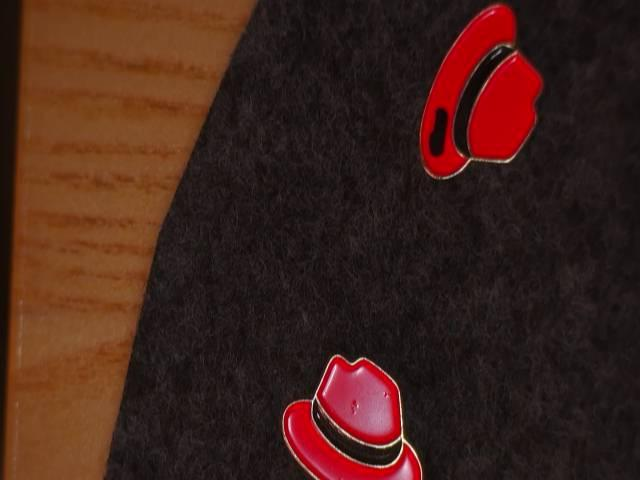Red-Hat: (400, 0, 549, 220), (252, 332, 438, 480)
Scratch: (420, 96, 473, 168)
